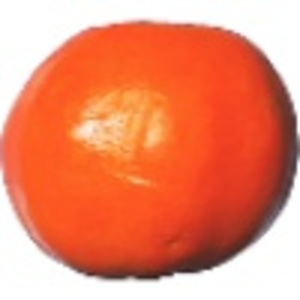tangerina: (2, 17, 300, 282)
